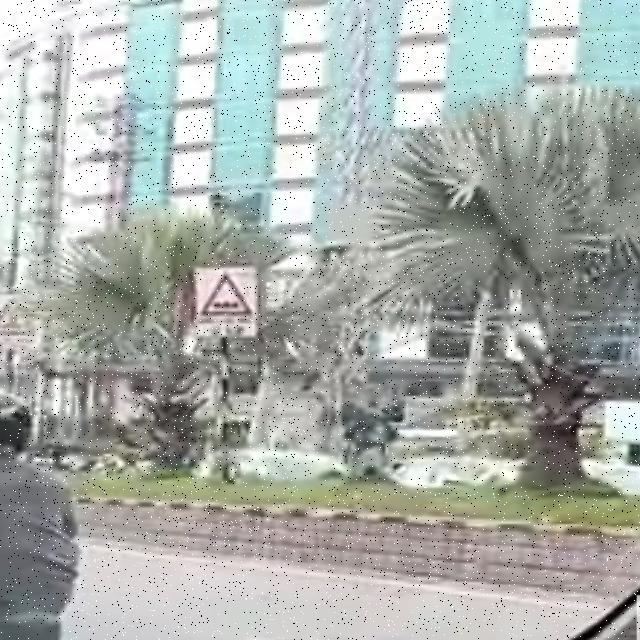Rumble_strip: (182, 264, 272, 344)
